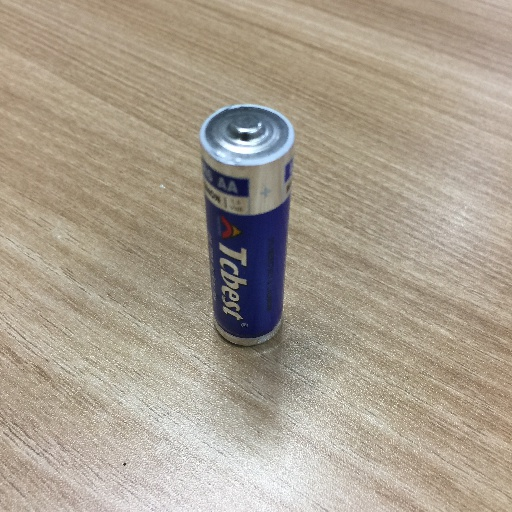Battery_0: (195, 89, 308, 368)
